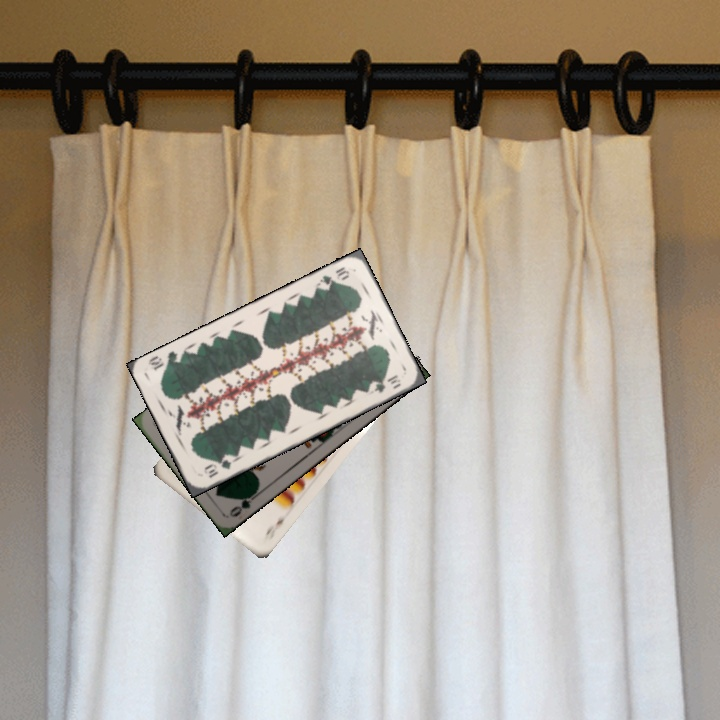E9: (260, 511, 291, 543)
G10: (314, 262, 352, 293), (199, 455, 234, 481)
GO: (226, 486, 262, 520)
